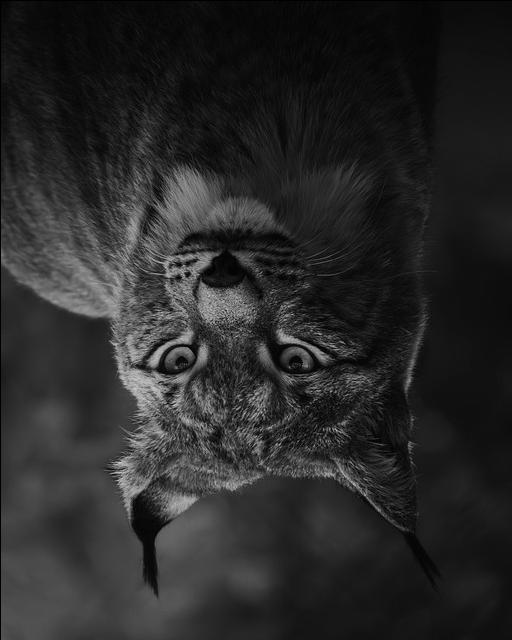Non_Gorille: (14, 36, 448, 611)
